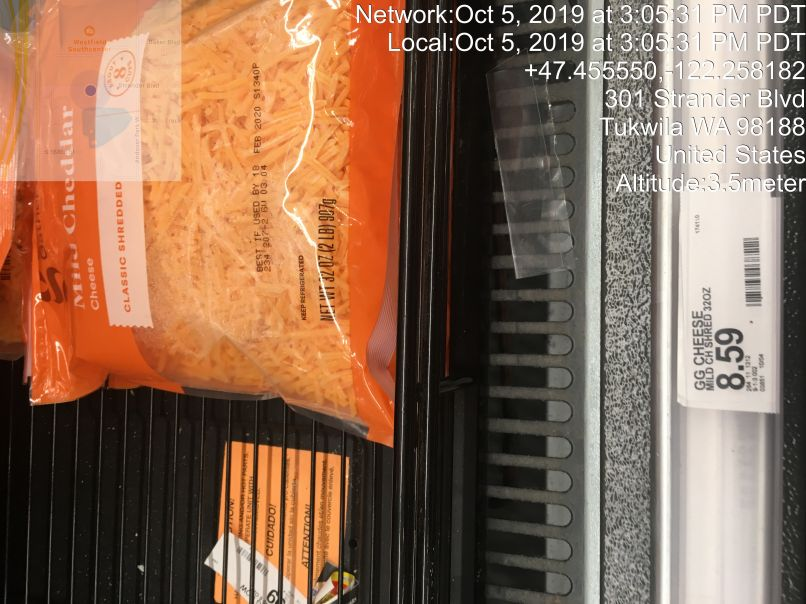Gg Cheese: (40, 40, 384, 408)
Label: (674, 179, 783, 421)
Location: (592, 89, 806, 169)
Time: (352, 3, 806, 55)
